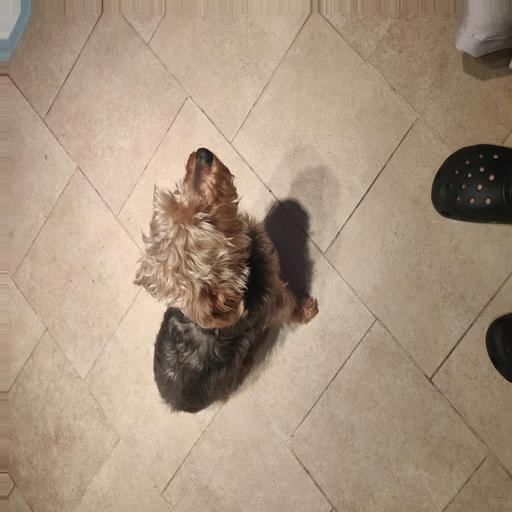dog: (101, 177, 321, 397)
